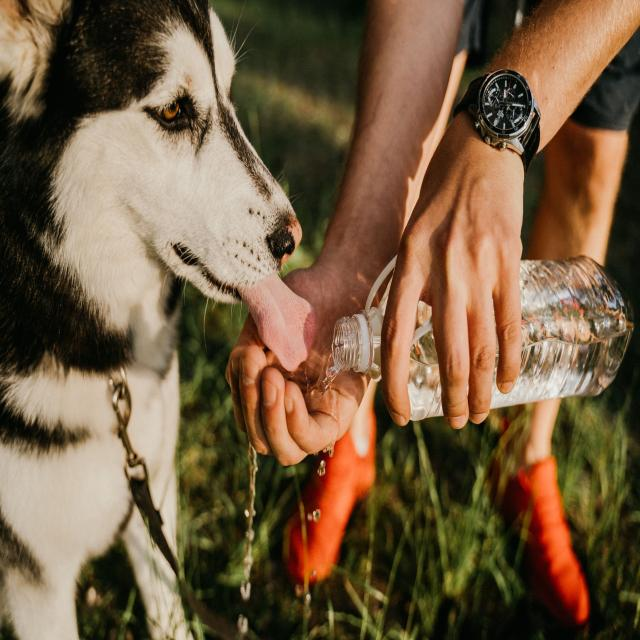Bottle: (491, 257, 633, 407)
